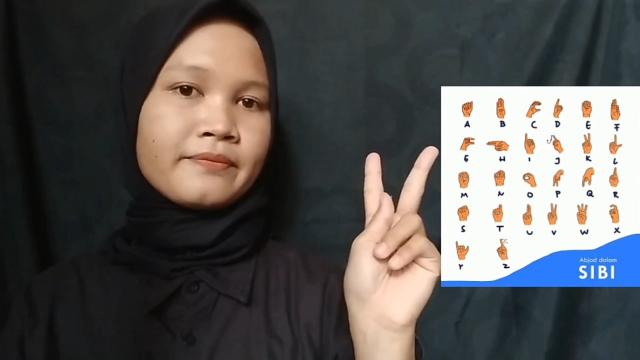K: (342, 136, 438, 360)
